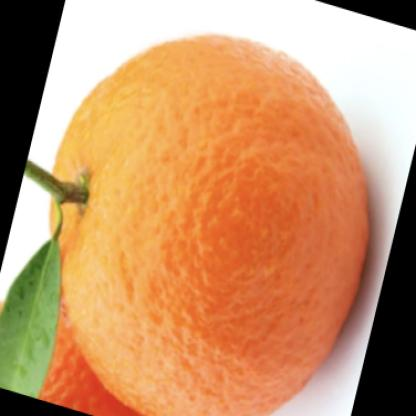fresh: (47, 34, 372, 416)
